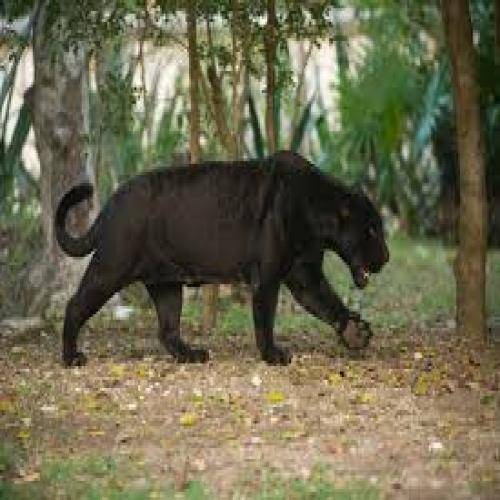panther-endangered: (52, 153, 391, 367)
